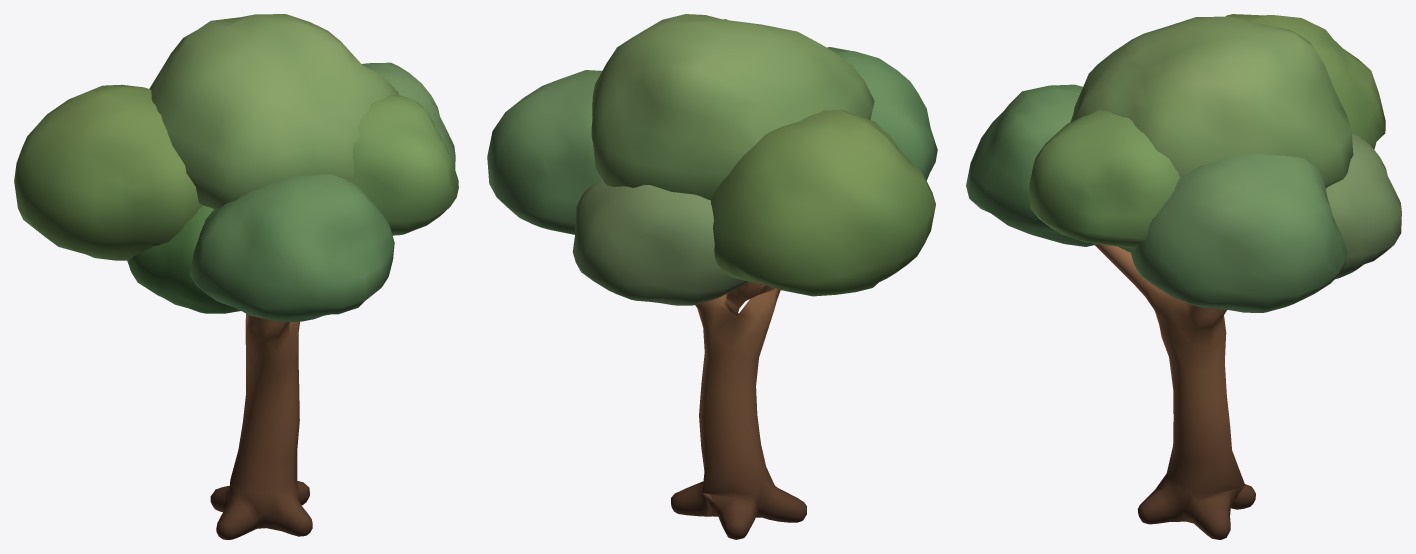
Rendered from Kit_Nature_OakHero_01.glb.
The picture shows the model from 3 angles, left to right: view 1: azimuth 30°, elevation 25°; view 2: azimuth 150°, elevation 25°; view 3: azimuth 270°, elevation 25°; orthographic projection. The views are drawn at different scales.
Parts seen in each view (by area): view 1: EX_OakHero_Leaves, EX_OakHero_Bark; view 2: EX_OakHero_Leaves, EX_OakHero_Bark; view 3: EX_OakHero_Leaves, EX_OakHero_Bark.
Boxes of the visible parts, <box> form: EX_OakHero_Leaves: <box>14,14,458,322</box>; EX_OakHero_Bark: <box>210,313,312,539</box>; EX_OakHero_Leaves: <box>487,14,937,305</box>; EX_OakHero_Bark: <box>671,281,806,539</box>; EX_OakHero_Leaves: <box>966,14,1401,312</box>; EX_OakHero_Bark: <box>1095,244,1255,539</box>.
Size of what is drawn, in the model's own units: 3.71 by 4.22 by 3.38.
